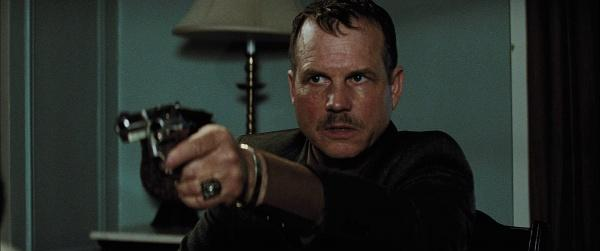Gun: (117, 105, 196, 159)
